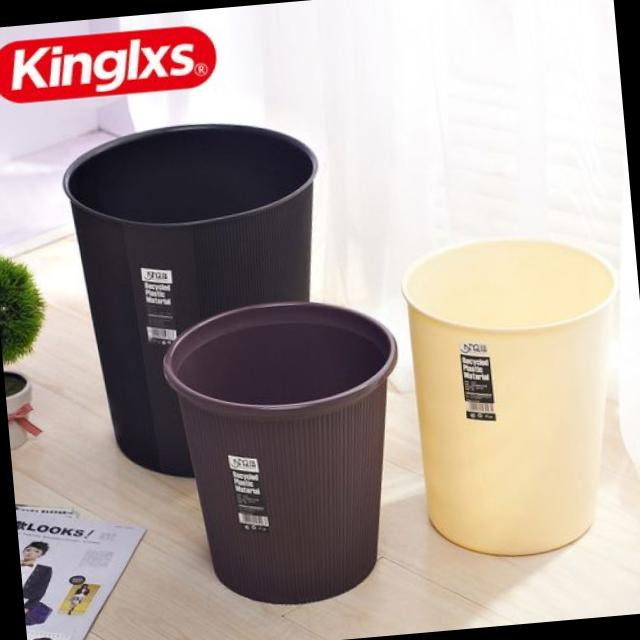dustbin: (54, 110, 348, 488), (153, 287, 421, 619), (393, 221, 640, 570)
